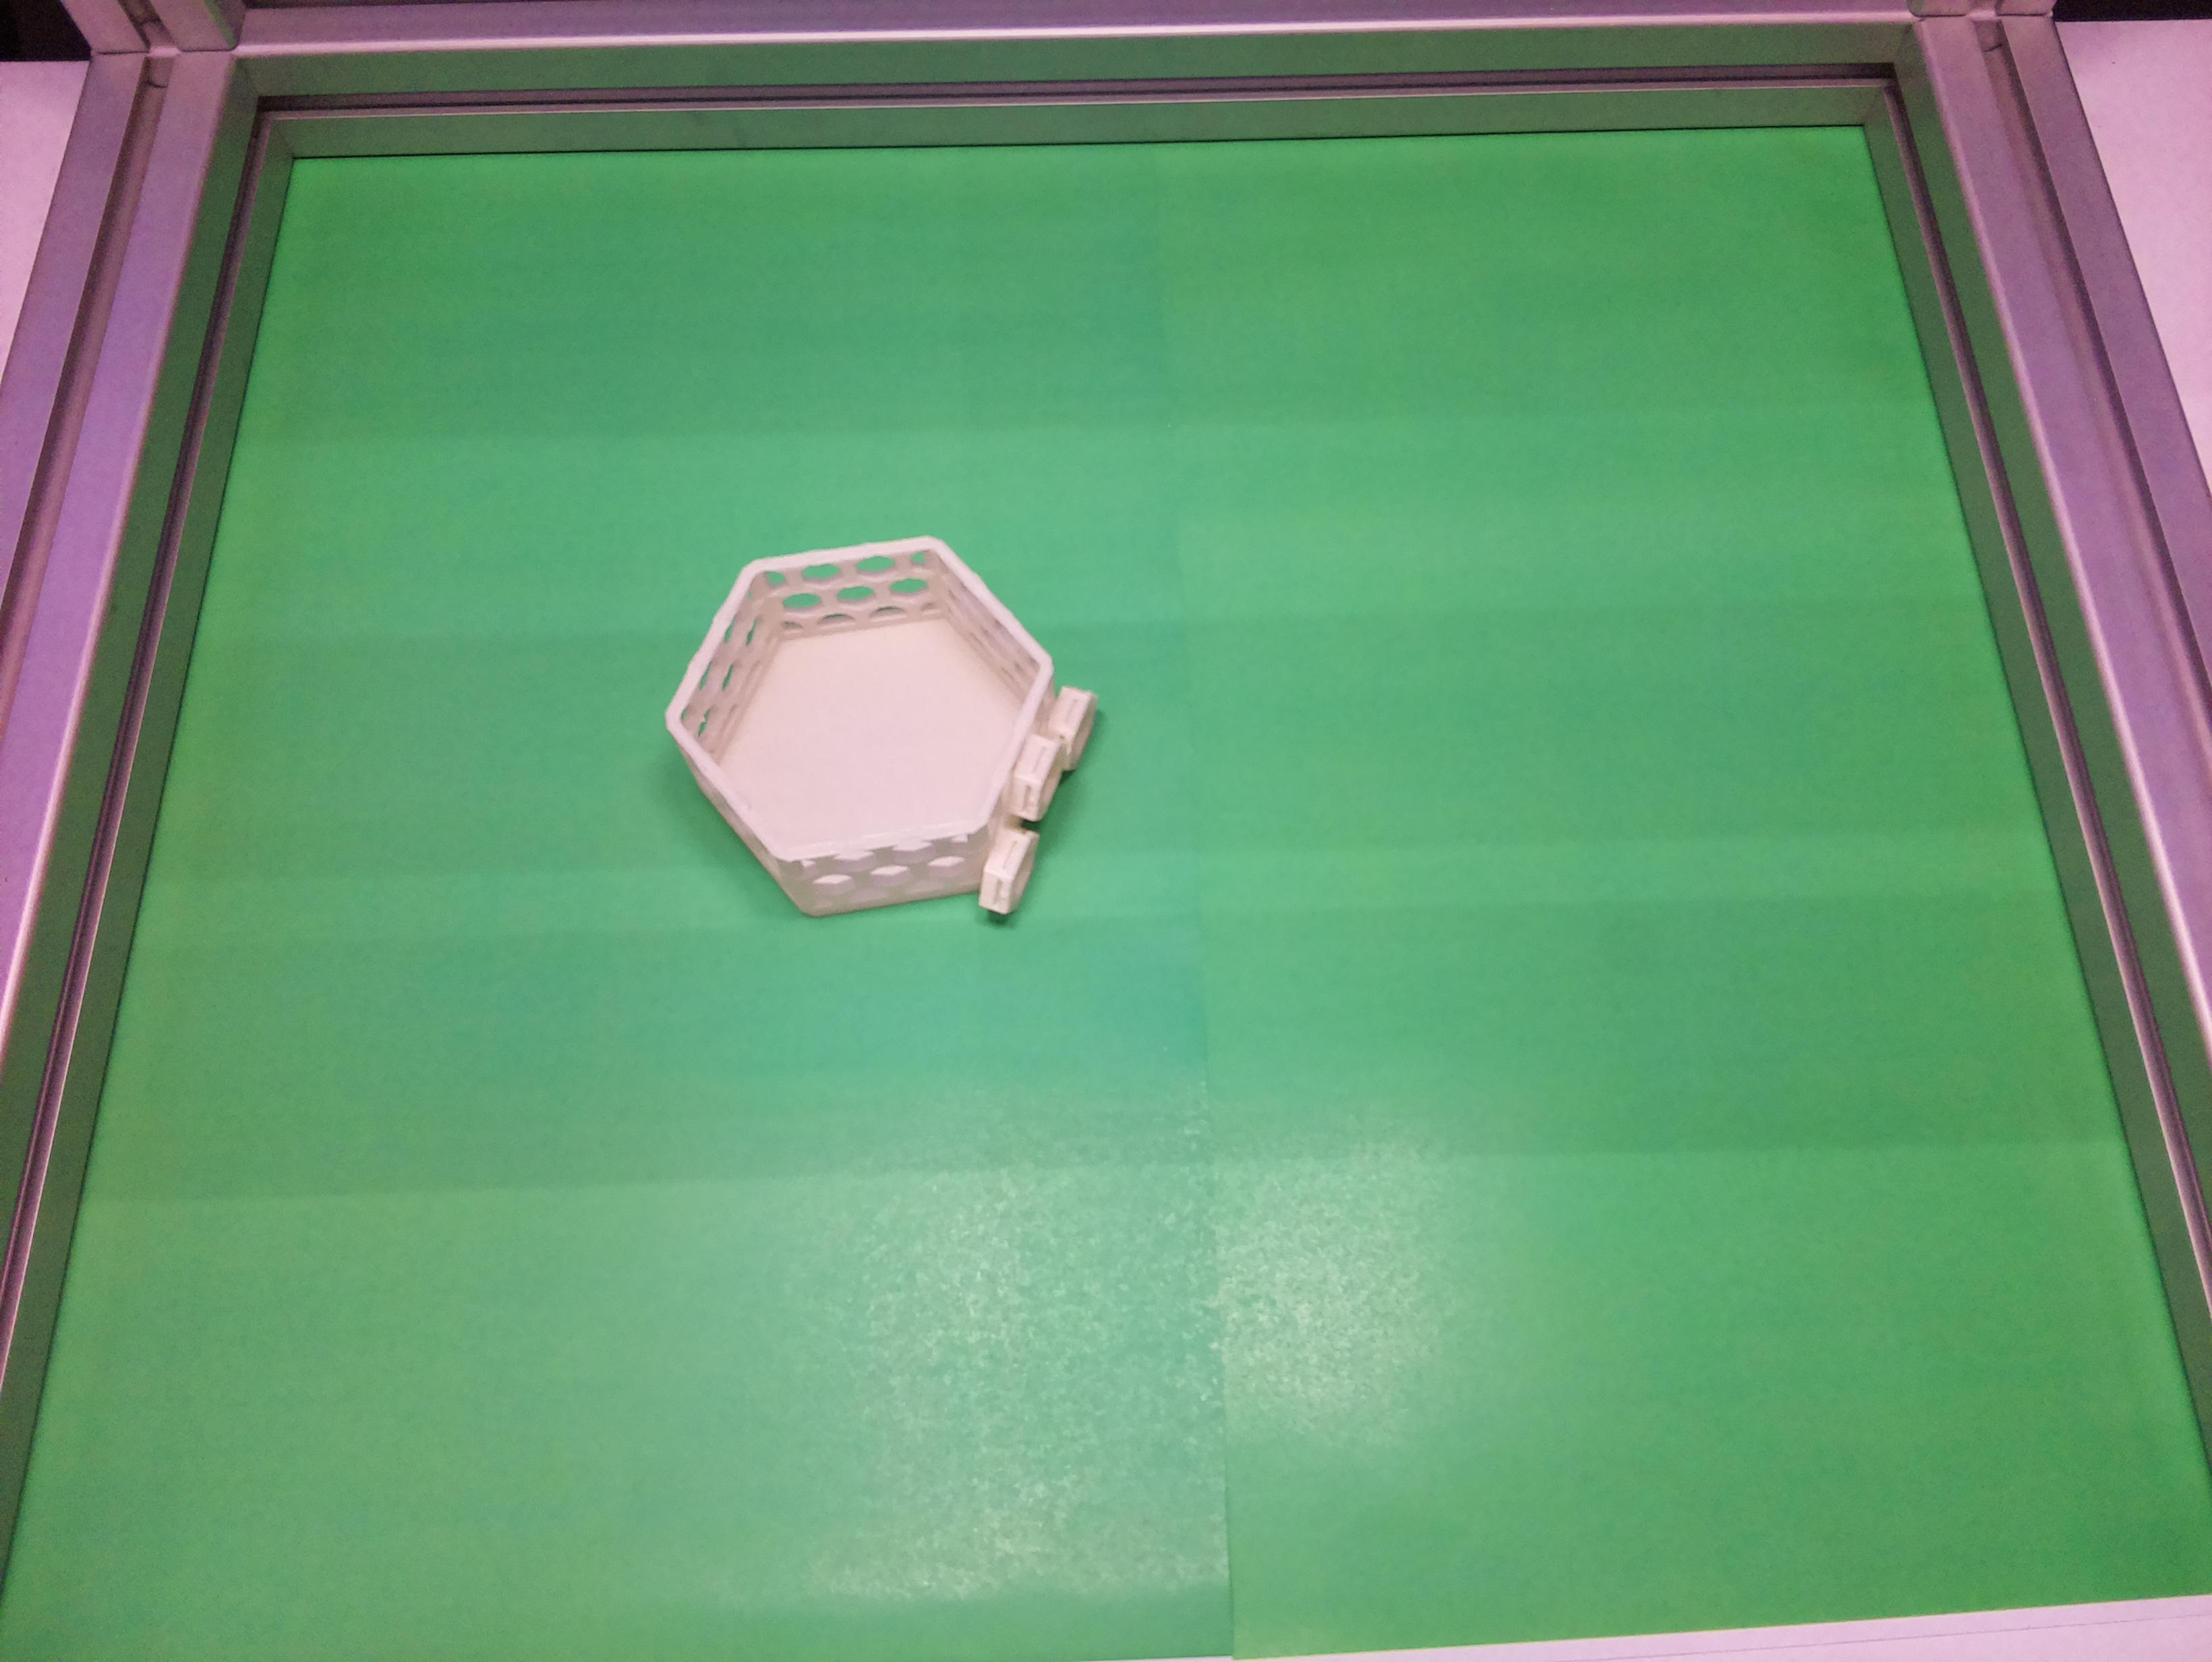bottle_holder: (602, 456, 1164, 1018)
